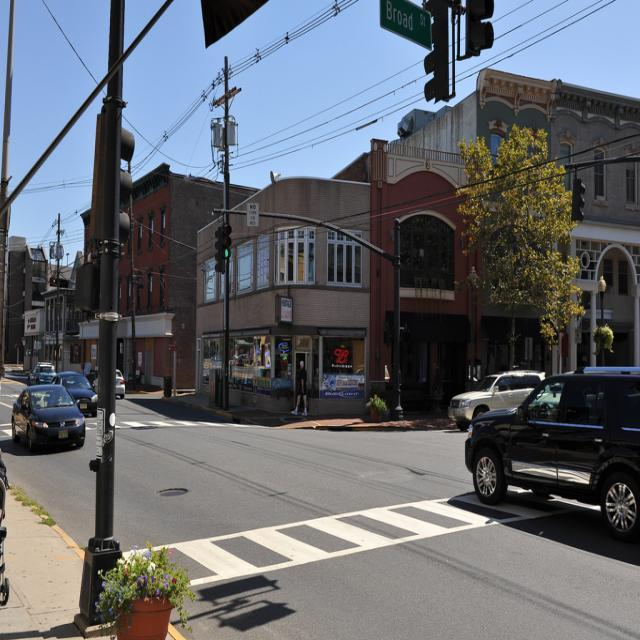off traffic light: (93, 128, 136, 241), (466, 0, 497, 58)
traffic light: (219, 225, 232, 258)
